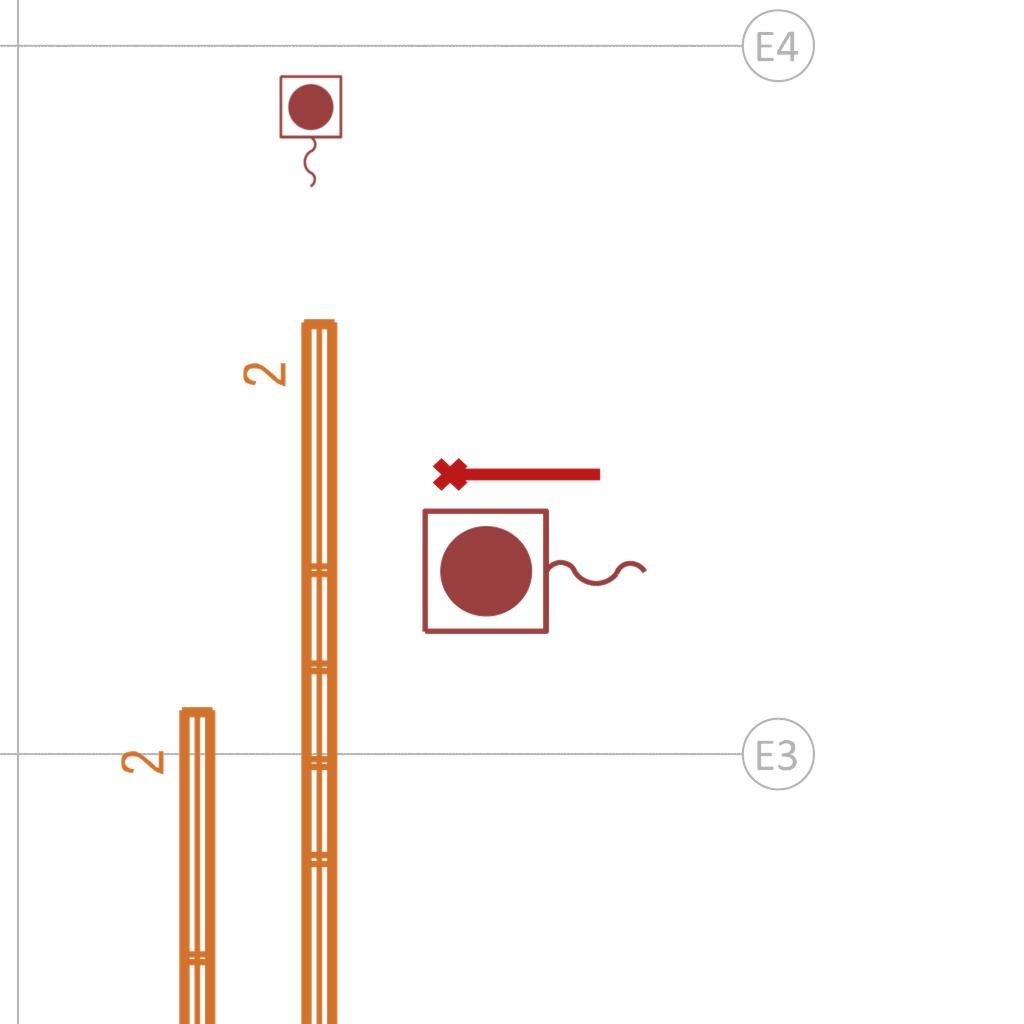ASR_Ansaugoeffnung: (430, 449, 606, 495)
Ambulanz_Pendelleuchte_LED: (238, 310, 350, 1024), (116, 698, 228, 1024)
Zugtaster: (414, 501, 658, 645), (274, 71, 346, 193)
